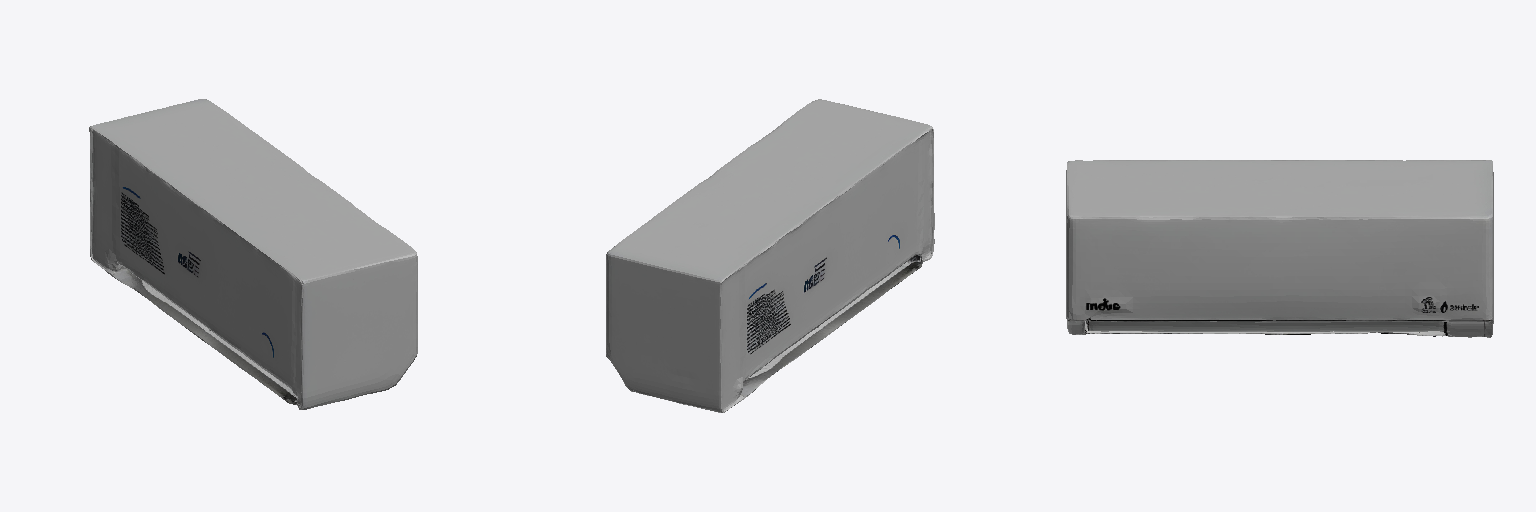
3 views of the same model, side by side, from view 1: azimuth 30°, elevation 25°; view 2: azimuth 150°, elevation 25°; view 3: azimuth 270°, elevation 25° (orthographic).
Visible parts, largest first — view 1: tripo_node_3aae2e98-ea4a-4b67-97ab-14e6a01d8bad; view 2: tripo_node_3aae2e98-ea4a-4b67-97ab-14e6a01d8bad; view 3: tripo_node_3aae2e98-ea4a-4b67-97ab-14e6a01d8bad.
Part boxes in pixels (x1,y1,x2,y2): tripo_node_3aae2e98-ea4a-4b67-97ab-14e6a01d8bad: (89, 99, 417, 409); tripo_node_3aae2e98-ea4a-4b67-97ab-14e6a01d8bad: (606, 99, 934, 412); tripo_node_3aae2e98-ea4a-4b67-97ab-14e6a01d8bad: (1066, 160, 1493, 337).
Bounding box in the file's own units: 0.3292 × 0.3463 × 0.9998.
Materials: 1 (1 with a texture image).